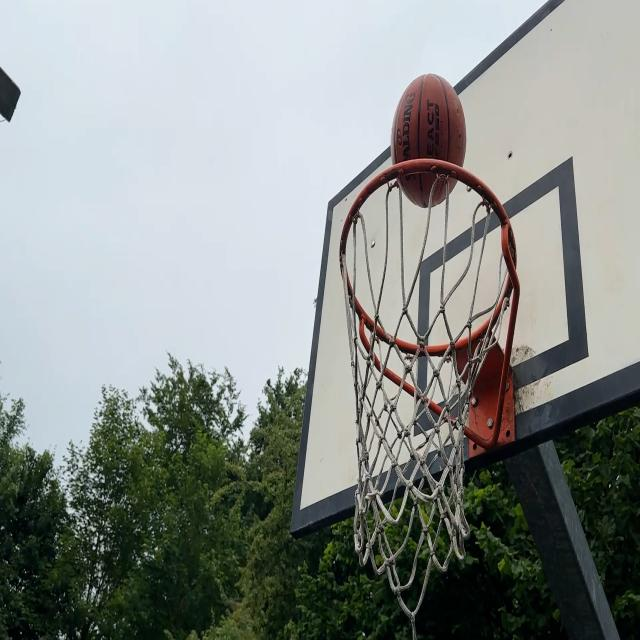rebound_hit: (392, 74, 466, 208)
